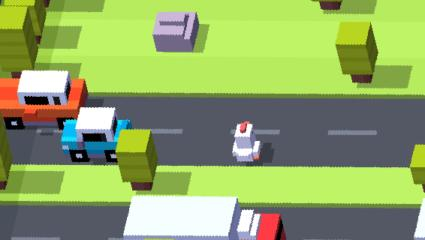hen: (233, 122, 263, 161)
obstacle: (128, 195, 237, 239), (1, 72, 73, 130), (0, 5, 41, 73), (334, 22, 375, 83), (118, 130, 158, 191), (78, 107, 119, 163), (154, 11, 202, 51), (0, 0, 45, 35), (238, 209, 286, 239), (410, 144, 425, 190), (317, 0, 343, 10), (1, 0, 37, 5)
